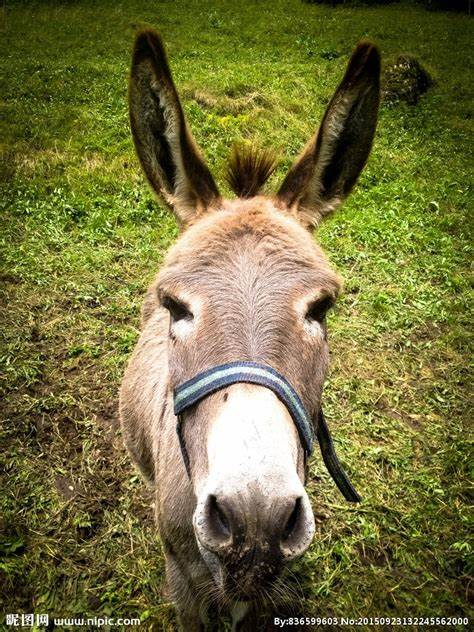background: (116, 28, 379, 631)
